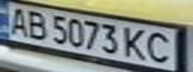0: (63, 16, 84, 48)
3: (100, 21, 121, 56)
5: (45, 12, 69, 45)
7: (81, 18, 103, 52)
A: (3, 4, 30, 36)
B: (21, 8, 51, 41)
C: (142, 29, 175, 65)
K: (121, 26, 148, 61)
